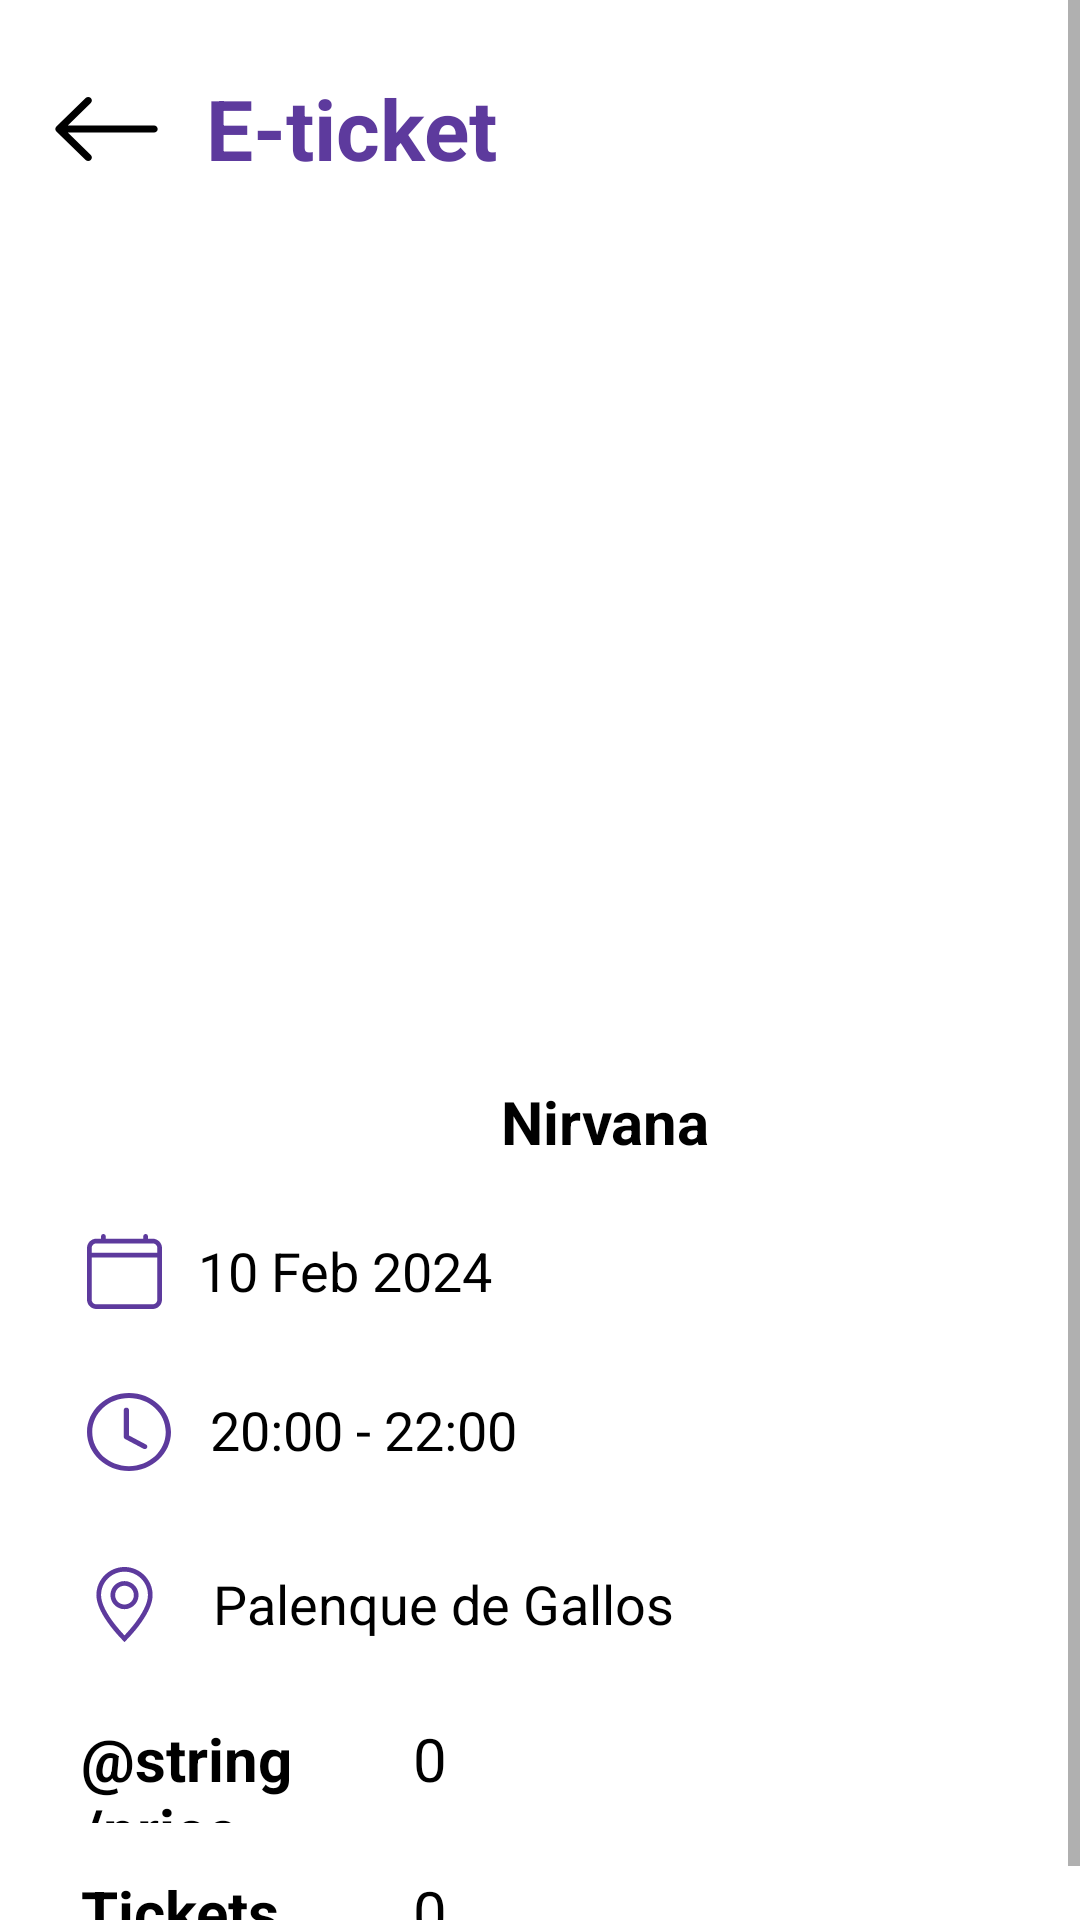

Point at icon controls on the screen. Image size 1080px x 1920px, points as (x=x, y=y).
arrow left: (x=106, y=129)
clock: (x=129, y=1432)
geo: (x=124, y=1604)
